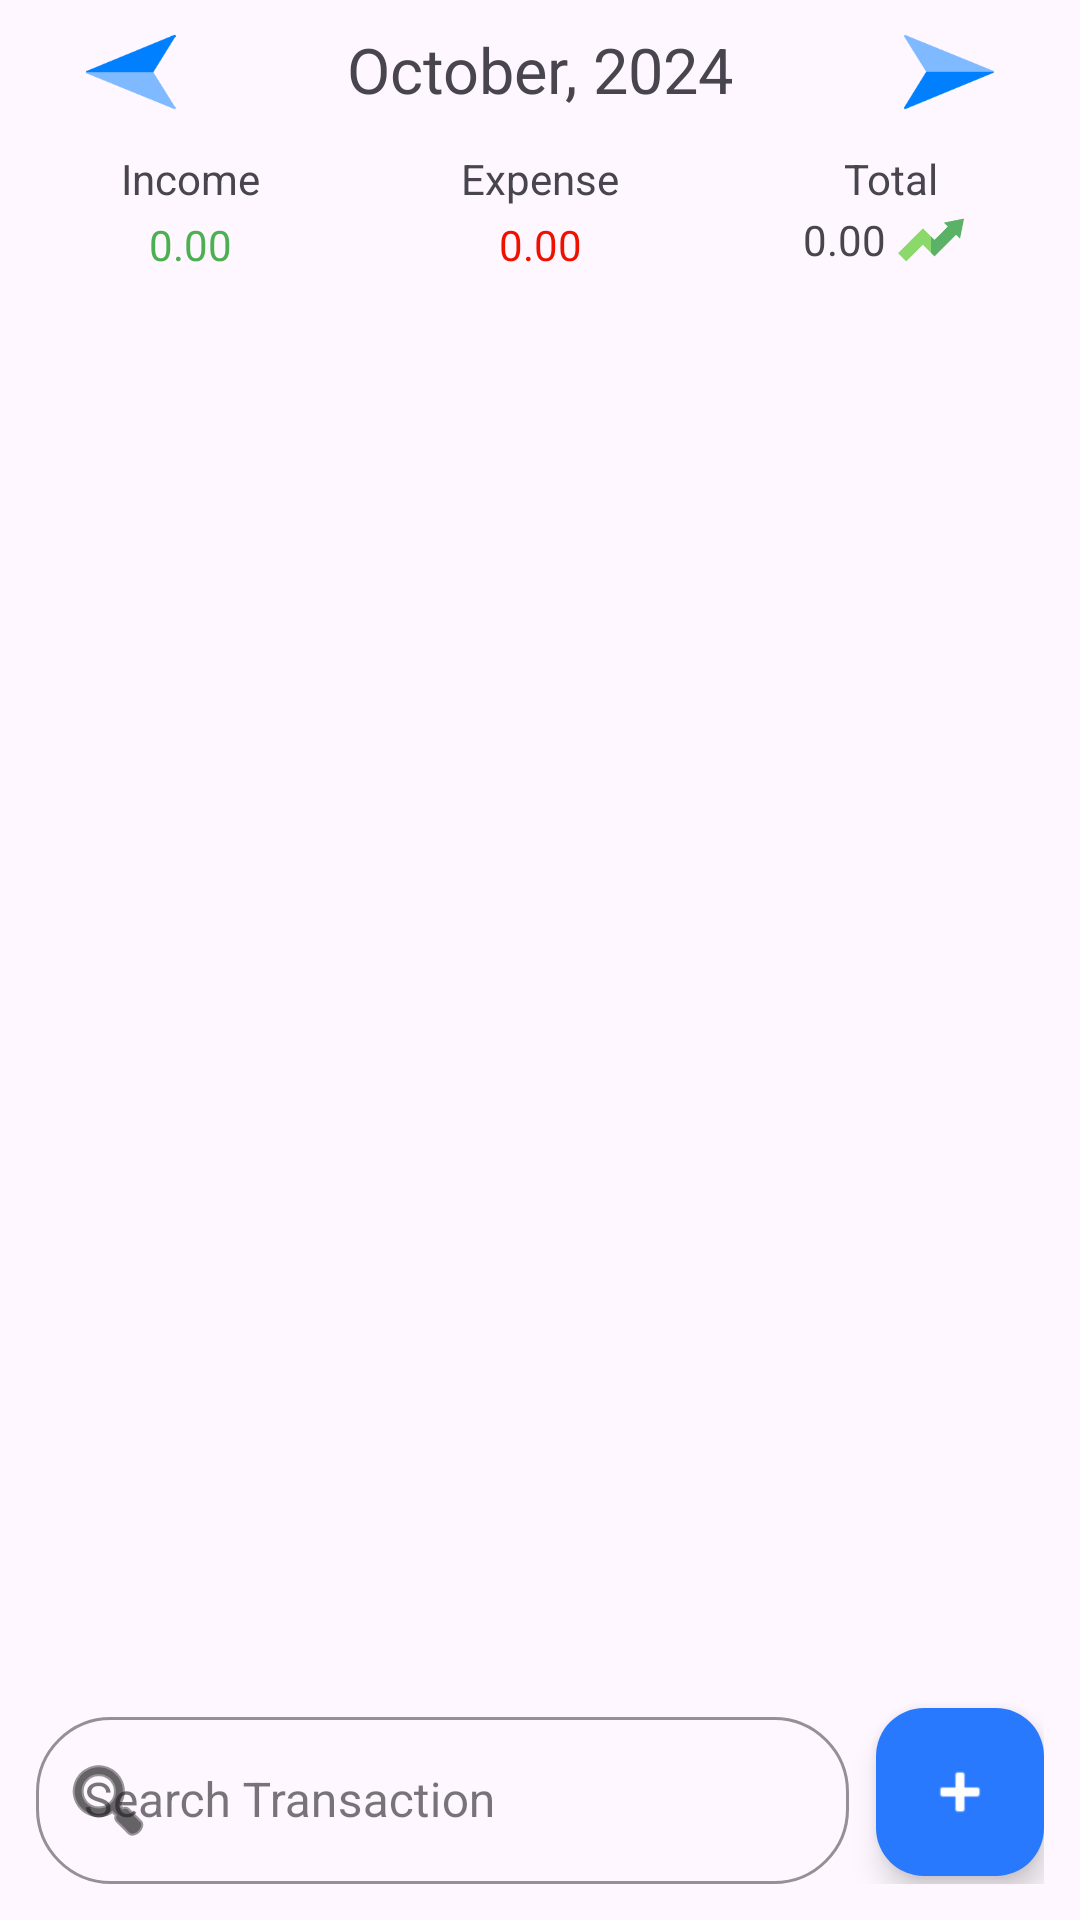

Locate icon controls on the screen. Image size 1080x1920, boxes as (x1, y1, x2, y2).
Add Transaction: (876, 1708, 1044, 1876)
